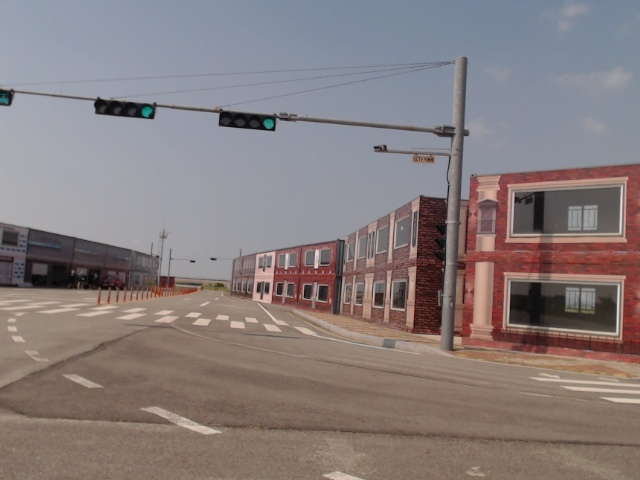straight_green_4: (219, 110, 275, 132), (96, 99, 154, 119)
